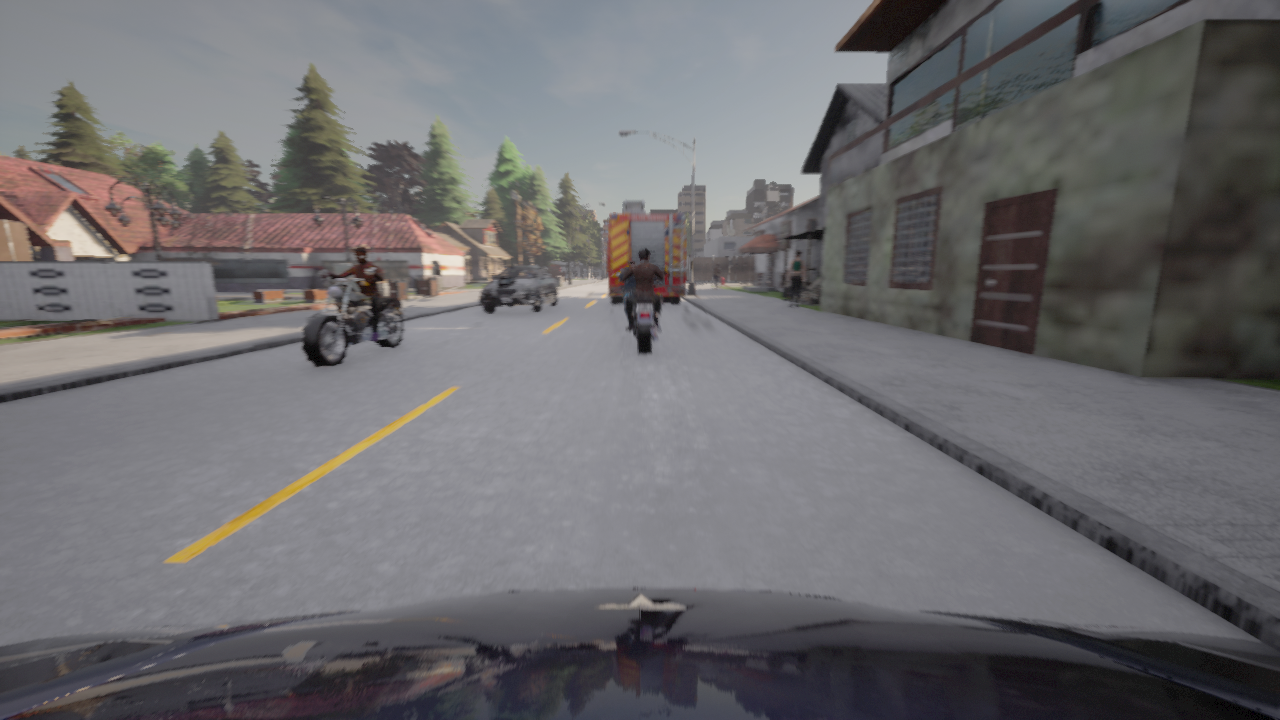cyclist: (0, 588, 1279, 719), (301, 268, 405, 366), (608, 200, 685, 303), (621, 269, 665, 353), (480, 265, 557, 312), (617, 272, 634, 312)
pedestrian: (788, 250, 805, 307), (713, 263, 720, 289)
